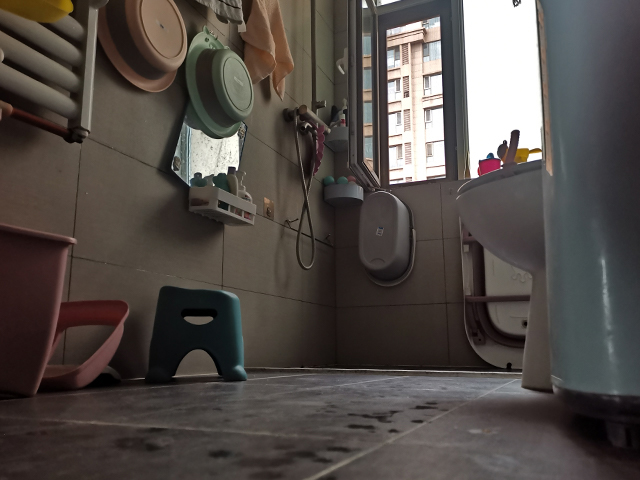stool: (144, 284, 249, 385)
